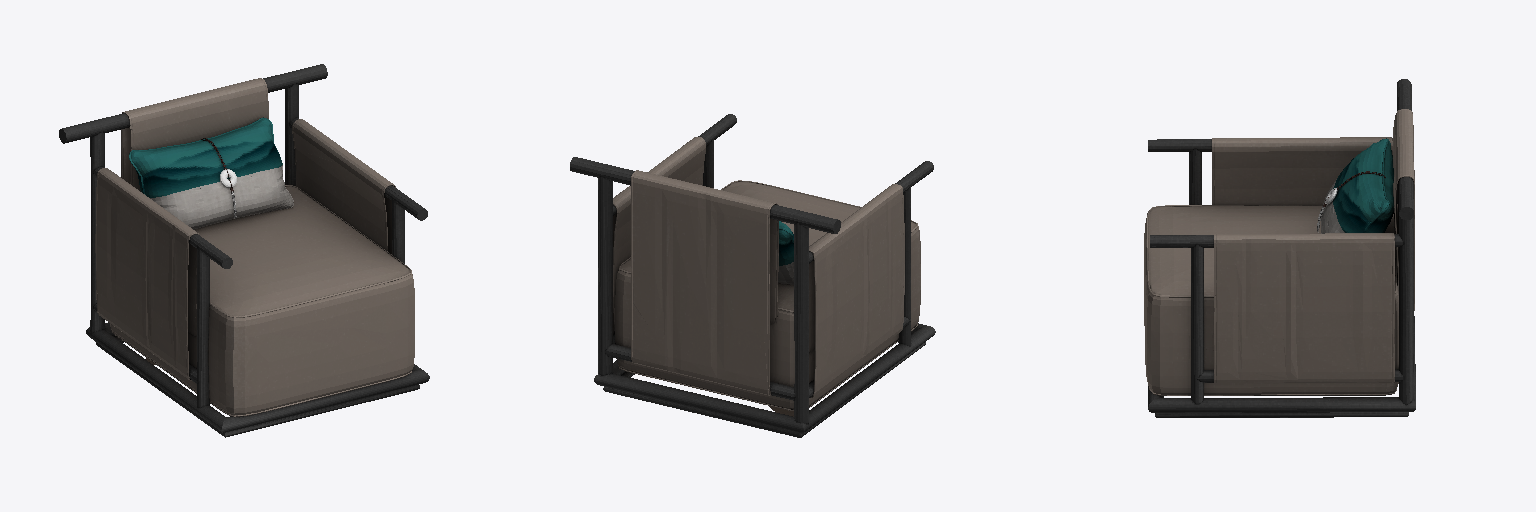
The picture shows the model from 3 angles: view 1: azimuth 30°, elevation 25°; view 2: azimuth 150°, elevation 25°; view 3: azimuth 270°, elevation 25°; orthographic projection.
Visible parts, largest first — view 1: solid_007, solid_003, solid_001, solid_002; view 2: solid_007, solid_003, solid_001; view 3: solid_007, solid_003, solid_001.
Part boxes in pixels (bbox=[...]): solid_007: bbox=[95, 78, 414, 416]; solid_003: bbox=[59, 64, 429, 437]; solid_001: bbox=[129, 117, 282, 197]; solid_002: bbox=[150, 165, 293, 229]; solid_007: bbox=[613, 137, 920, 416]; solid_003: bbox=[570, 114, 935, 437]; solid_001: bbox=[779, 221, 793, 265]; solid_007: bbox=[1144, 109, 1414, 395]; solid_003: bbox=[1148, 79, 1415, 417]; solid_001: bbox=[1333, 138, 1393, 232].
Size of the model in its own units: 1.5 by 1.25 by 1.35.
1 materials, 1 textured.